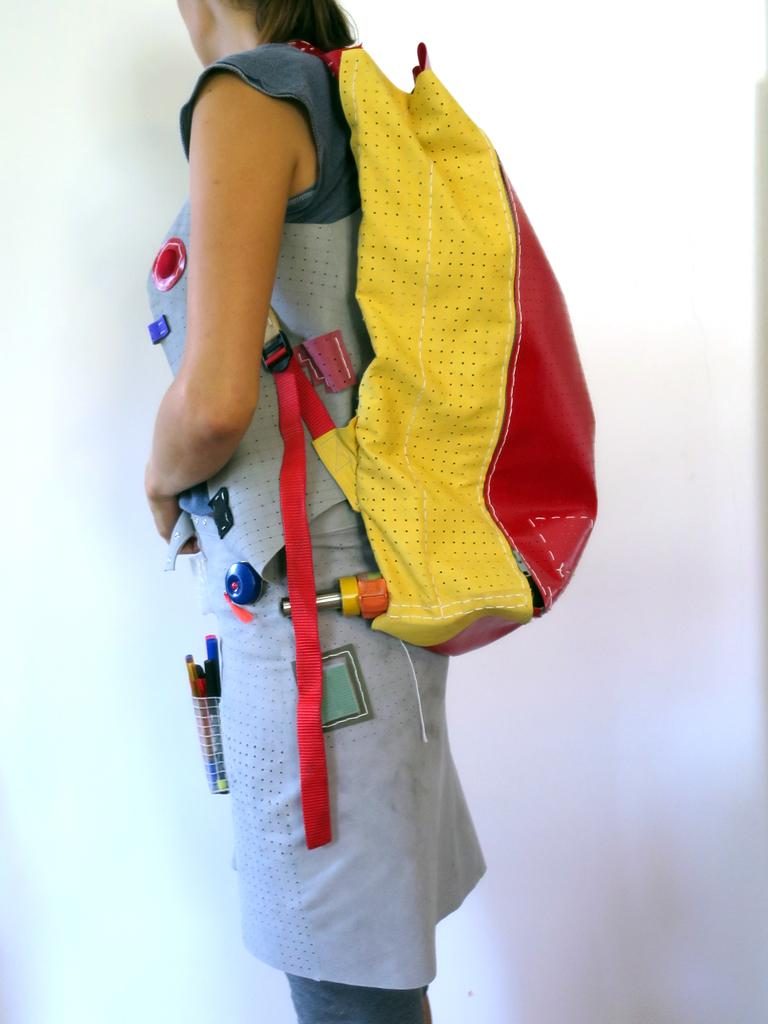Luggage-and-bags: (255, 42, 596, 850)
